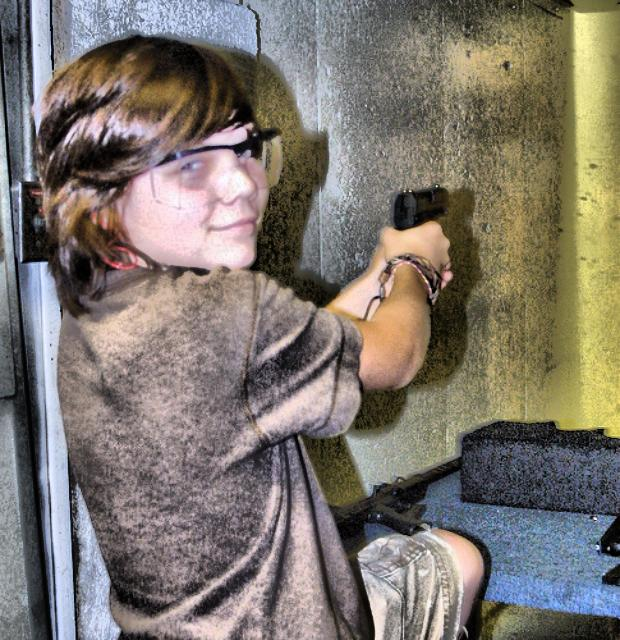pistol: (392, 182, 448, 234)
